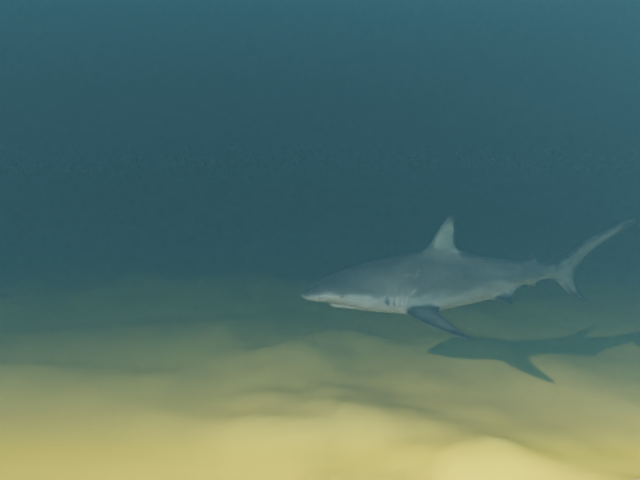Carribean Shark.001: (300, 214, 636, 339)
